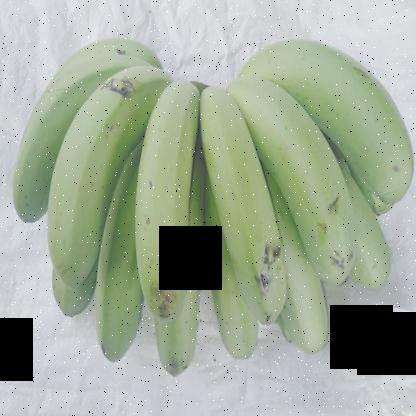unripe: (268, 22, 415, 208), (234, 76, 364, 284), (38, 59, 156, 287), (202, 72, 291, 329), (132, 78, 202, 321), (90, 229, 145, 358), (140, 311, 209, 387), (290, 289, 340, 360)
